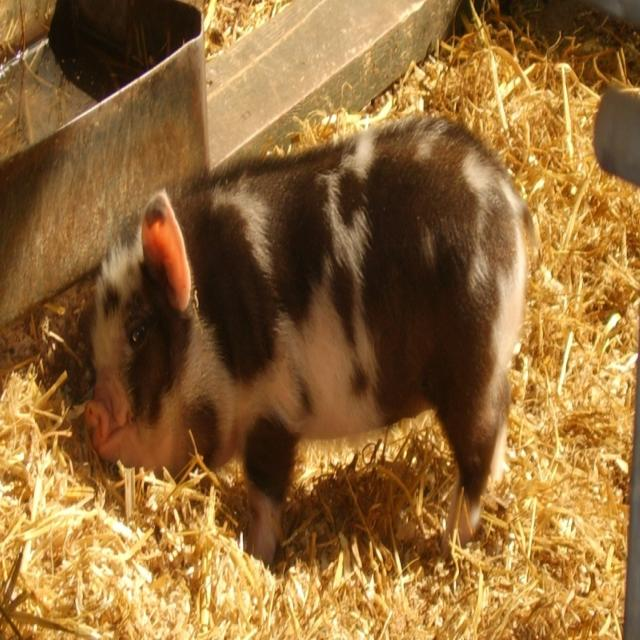pig: (88, 114, 540, 568)
